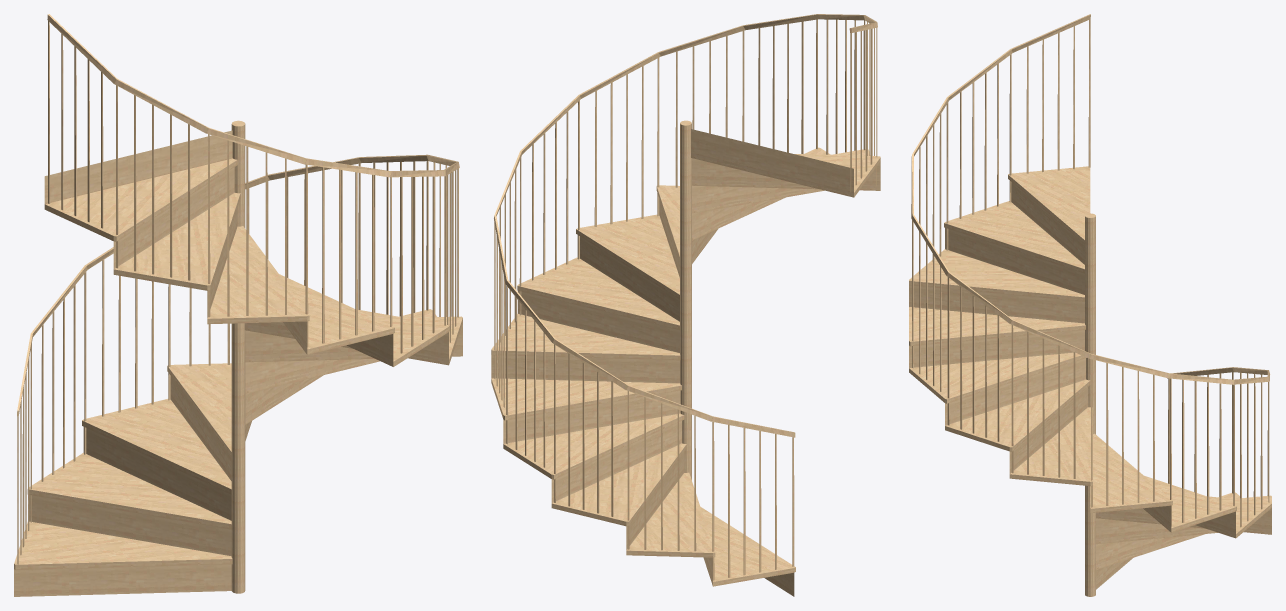
File: staircase_360_circle.obj
The picture shows the model from 3 angles, left to right: view 1: azimuth 30°, elevation 25°; view 2: azimuth 150°, elevation 25°; view 3: azimuth 270°, elevation 25°; orthographic projection. The views are drawn at different scales.
Visible parts, largest first — view 1: 3_3, 16_16, 14, 37, 1_1; view 2: 3_3, 16_16, 14, 37, 1_1; view 3: 3_3, 16_16, 14, 37, 1_1.
Boxes of the visible parts, x1,y1,x2,y2 form: 3_3: (14, 158, 462, 570); 16_16: (14, 130, 462, 596); 14: (17, 21, 458, 564); 37: (17, 14, 459, 416); 1_1: (231, 120, 245, 593); 3_3: (491, 147, 880, 586); 16_16: (491, 129, 880, 596); 14: (494, 19, 877, 580); 37: (494, 14, 877, 437); 1_1: (680, 120, 691, 479); 3_3: (909, 166, 1271, 569); 16_16: (909, 182, 1271, 589); 14: (912, 19, 1269, 527); 37: (911, 14, 1270, 384); 1_1: (1085, 213, 1095, 596).
Bounding box in the file's own units: 230 × 353 × 230.
